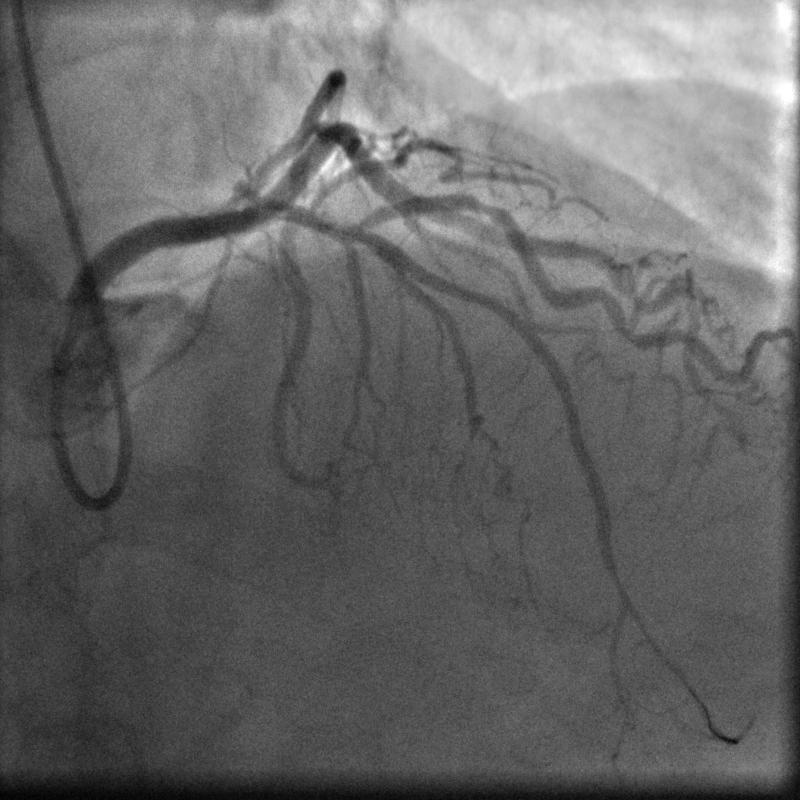Stenosis: (459, 187, 507, 230)
